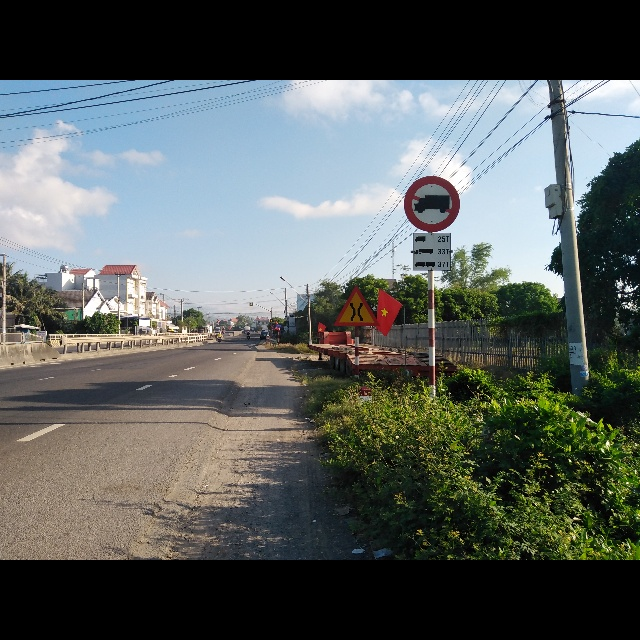Cấm xe tải: (402, 175, 463, 233)
Cầu hẹp: (333, 285, 377, 327)
